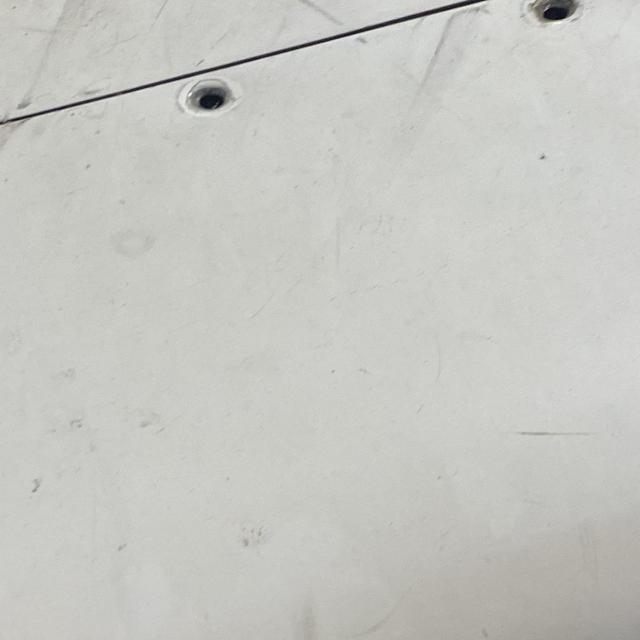Fastener Damage: (158, 67, 252, 121), (526, 0, 600, 28)
